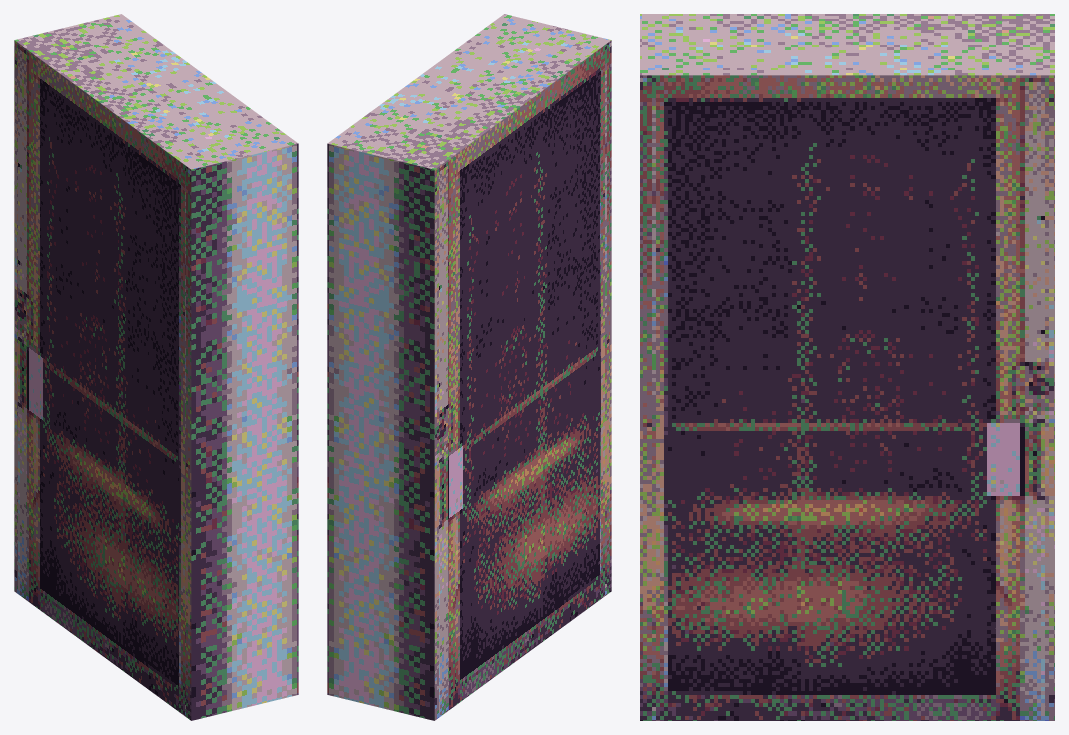
File: door.glb
3 renders of one model, left to right at view 1: azimuth 30°, elevation 25°; view 2: azimuth 150°, elevation 25°; view 3: azimuth 270°, elevation 25°, orthographic. The views are drawn at different scales.
Visible parts, largest first — view 1: door; view 2: door; view 3: door.
Part boxes in pixels (<box>): door: <box>14,14,298,720</box>; door: <box>327,14,611,720</box>; door: <box>640,14,1054,720</box>.
Bounding box in the file's own units: 0.9765 × 4.8 × 2.79.
Materials: 1 (1 with a texture image).
